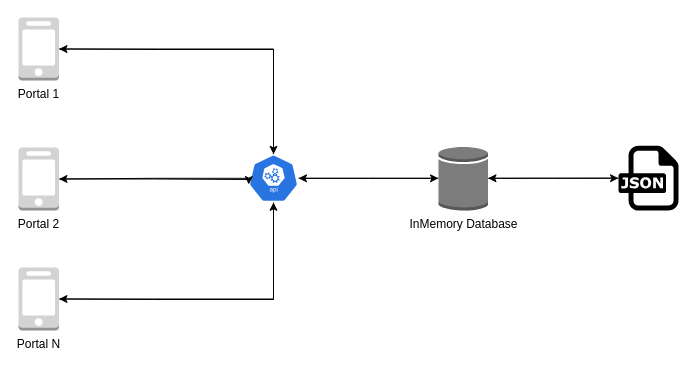
The diagram is 696 pixels wide and 369 high, and some of its shapes have lost their labels. The box of each missing label's shape, as (x1, y1, x2, y2) in pixels:
API Imóveis: (248, 153, 298, 202)
Souce: (618, 145, 678, 211)
